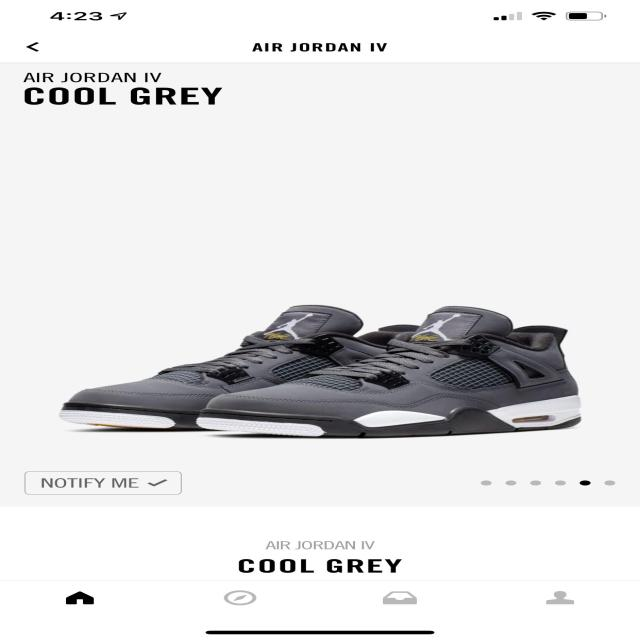shoe: (186, 302, 605, 460), (50, 296, 417, 446)
